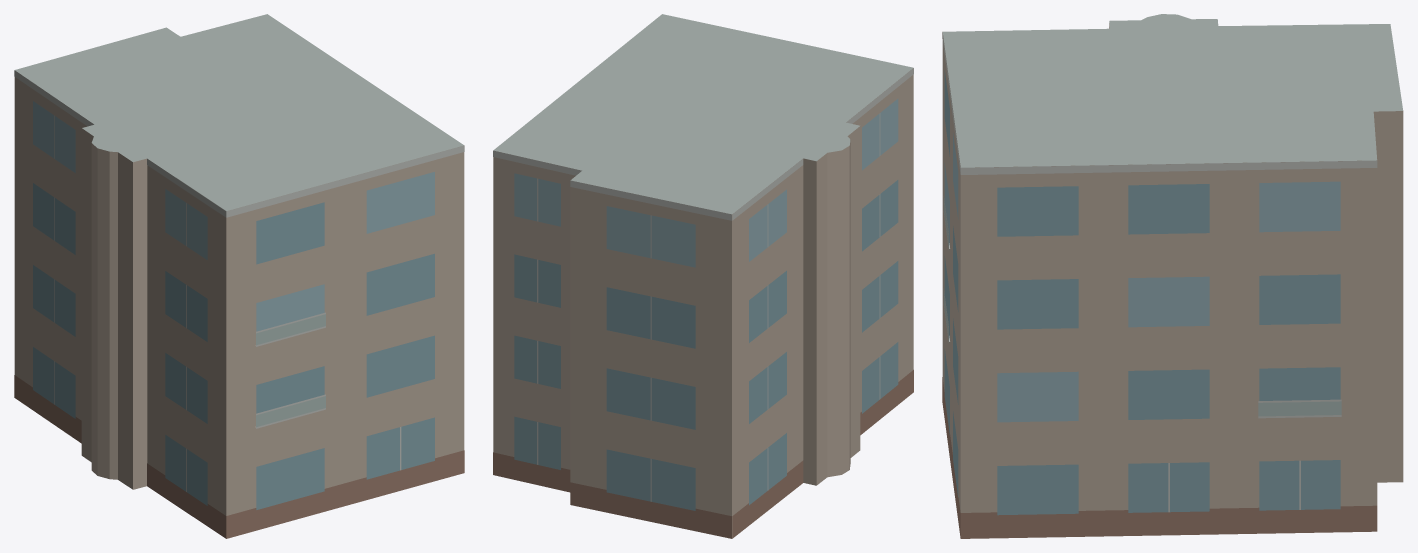
File: survey-upis-32913585.glb
3 views of the same model, side by side, from view 1: azimuth 30°, elevation 25°; view 2: azimuth 150°, elevation 25°; view 3: azimuth 270°, elevation 25° (orthographic). The views are drawn at different scales.
Parts seen in each view (by area): view 1: survey-upis-32913585.tmp; view 2: survey-upis-32913585.tmp; view 3: survey-upis-32913585.tmp.
Boxes of the visible parts, x1=… form: survey-upis-32913585.tmp: x1=14, y1=14, x2=464, y2=538; survey-upis-32913585.tmp: x1=493, y1=14, x2=913, y2=538; survey-upis-32913585.tmp: x1=942, y1=14, x2=1403, y2=538.
Size of the model in its own units: 10.84 by 12.2 by 13.73.
